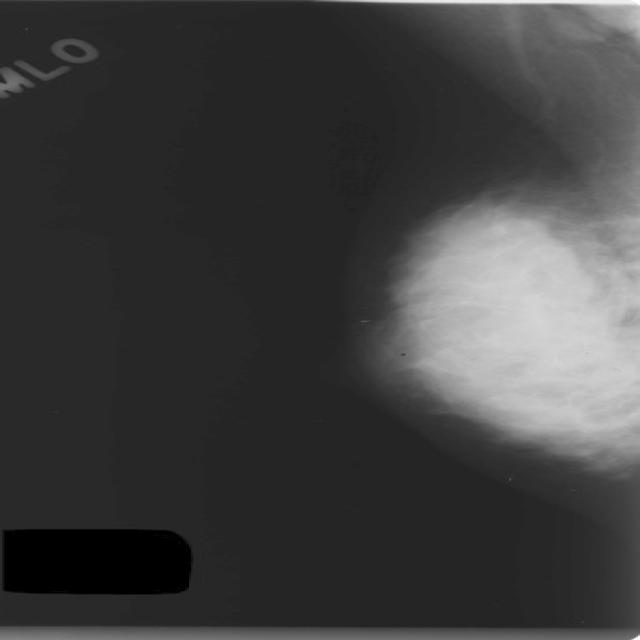tumour: (406, 214, 638, 443)
